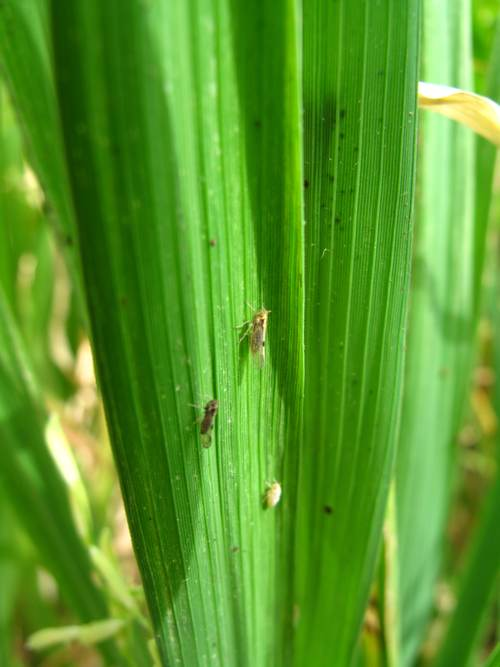Delphacidae: (233, 301, 272, 366), (187, 396, 218, 440)
